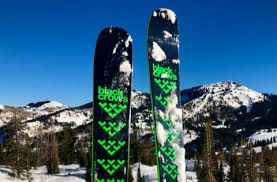skis: (89, 9, 186, 182)
